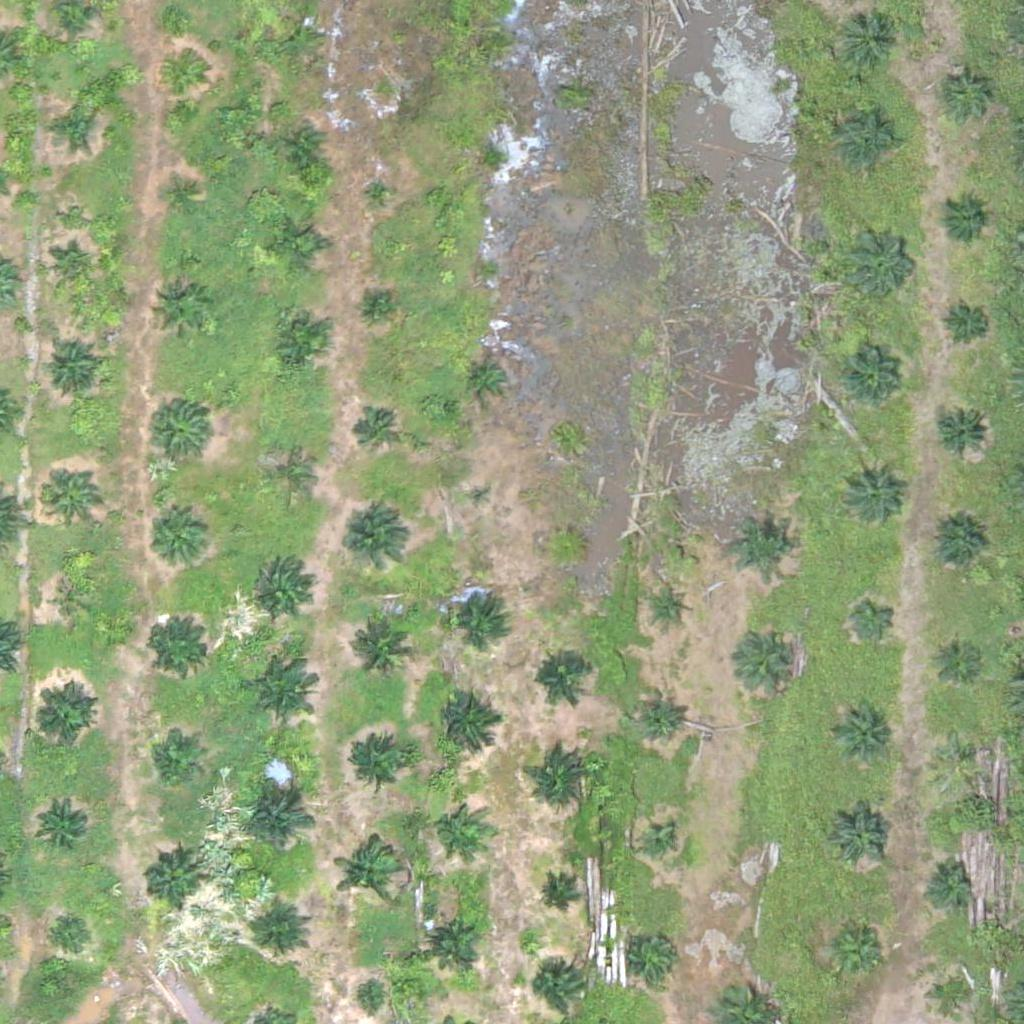Kelapa_Sawit: (341, 735, 416, 811), (244, 654, 319, 730), (337, 507, 412, 583), (345, 609, 420, 685), (333, 837, 408, 913), (242, 786, 317, 861), (844, 224, 919, 299), (742, 628, 805, 691), (731, 512, 794, 575), (446, 584, 509, 647), (31, 686, 94, 749), (36, 793, 99, 856), (250, 904, 313, 967), (422, 909, 485, 972), (142, 852, 205, 915), (840, 351, 903, 414), (829, 700, 892, 763), (829, 805, 892, 868), (822, 919, 885, 982), (930, 401, 993, 464), (532, 746, 594, 809), (39, 336, 101, 399), (531, 646, 593, 709), (149, 616, 211, 679), (435, 692, 498, 754), (252, 558, 314, 621), (149, 280, 211, 343), (269, 313, 331, 376), (147, 400, 209, 463), (151, 511, 213, 574), (41, 465, 103, 528), (840, 11, 902, 74), (839, 108, 901, 171), (841, 462, 903, 525), (927, 513, 989, 576), (268, 214, 330, 277), (44, 102, 94, 153), (942, 68, 992, 119), (933, 630, 983, 681), (932, 727, 982, 778), (922, 856, 972, 907), (848, 592, 898, 643), (48, 911, 98, 962), (938, 192, 988, 243), (350, 406, 400, 457), (431, 801, 481, 851), (150, 734, 200, 784), (532, 964, 582, 1014), (632, 931, 682, 981), (926, 972, 976, 1022), (634, 690, 684, 740), (265, 451, 315, 501), (942, 300, 992, 350), (464, 354, 514, 404), (45, 245, 95, 295), (651, 588, 689, 626), (641, 826, 679, 864), (350, 980, 388, 1018), (548, 528, 586, 566), (362, 176, 400, 214), (286, 128, 324, 166), (166, 61, 204, 99), (165, 181, 203, 219), (282, 19, 320, 57), (536, 877, 573, 915), (55, 582, 92, 620), (364, 292, 389, 318), (468, 482, 493, 507)
